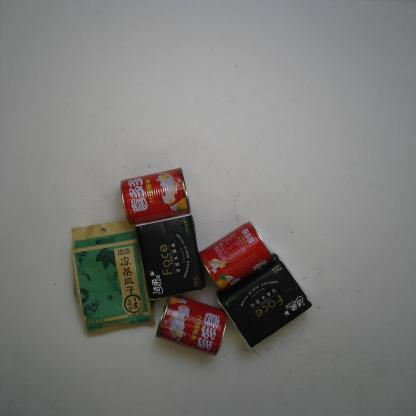Canned Food: (196, 220, 276, 292), (154, 292, 228, 356), (120, 166, 190, 226)
Dried Food: (67, 218, 157, 339)
Tissue: (217, 248, 314, 353), (134, 215, 209, 305)
